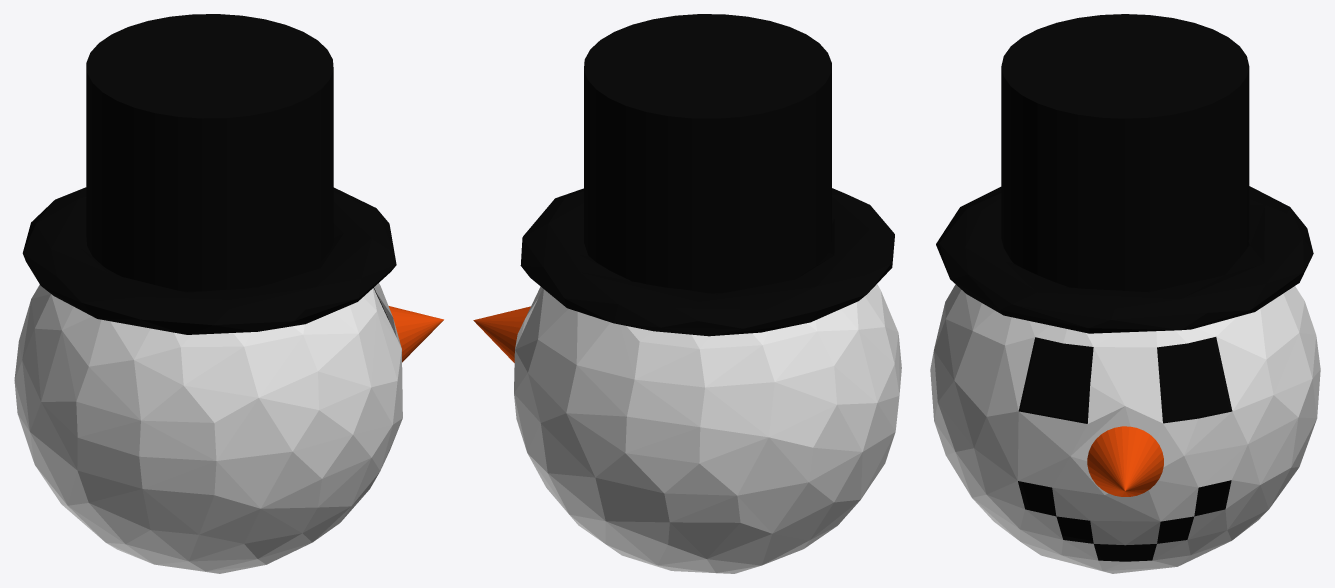
File: snowmanhead.dae
3 views of the same model, side by side, from view 1: azimuth 30°, elevation 25°; view 2: azimuth 150°, elevation 25°; view 3: azimuth 270°, elevation 25° (orthographic).
Parts seen in each view (by area): view 1: Sphere_001; view 2: Sphere_001; view 3: Sphere_001.
Boxes of the visible parts, box(x1,y1,x2,y2) form: Sphere_001: box(14, 14, 443, 573); Sphere_001: box(473, 14, 901, 573); Sphere_001: box(930, 14, 1320, 573).
Size of the model in its own units: 0.2072 by 0.1737 by 0.2399.
1 material, 1 textured.
